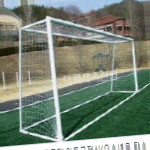goals: (17, 15, 141, 139)
